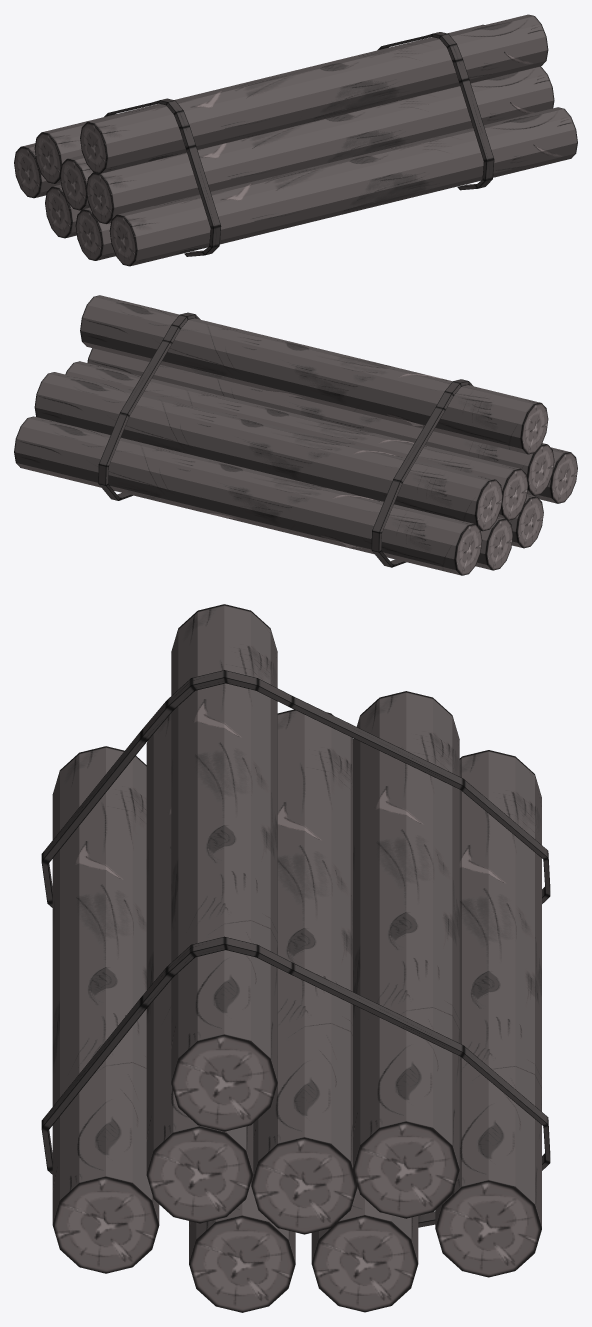
The model's file is Chargement tronc.fbx.
3 views of the same model, one above another, from view 1: azimuth 30°, elevation 25°; view 2: azimuth 150°, elevation 25°; view 3: azimuth 270°, elevation 25° (orthographic). The views are drawn at different scales.
Parts seen in each view (by area): view 1: ChargementTrunks; view 2: ChargementTrunks; view 3: ChargementTrunks.
Part boxes in pixels (box(x1,y1,x2,y2)): ChargementTrunks: box(14, 14, 577, 266); ChargementTrunks: box(14, 295, 577, 575); ChargementTrunks: box(41, 604, 550, 1312).
Bounding box in the file's own units: 111 × 34.19 × 55.43.
